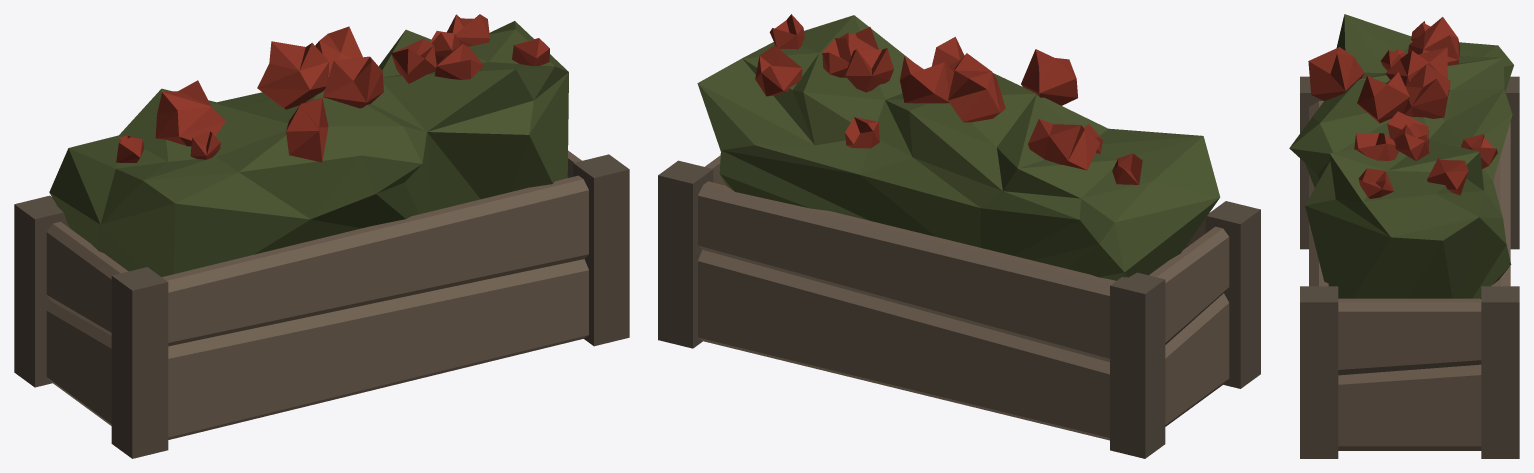
The model's file is SM_Prop_Planter_01.glb.
3 views of the same model, side by side, from view 1: azimuth 30°, elevation 25°; view 2: azimuth 150°, elevation 25°; view 3: azimuth 270°, elevation 25° (orthographic). The views are drawn at different scales.
Parts seen in each view (by area): view 1: SM_Prop_Planter_01; view 2: SM_Prop_Planter_01; view 3: SM_Prop_Planter_01.
Part boxes in pixels (x1,y1,x2,y2): SM_Prop_Planter_01: [14, 14, 629, 458]; SM_Prop_Planter_01: [658, 14, 1260, 458]; SM_Prop_Planter_01: [1289, 14, 1519, 458].
Bounding box in the file's own units: 0.0141 × 0.00848 × 0.00607.
